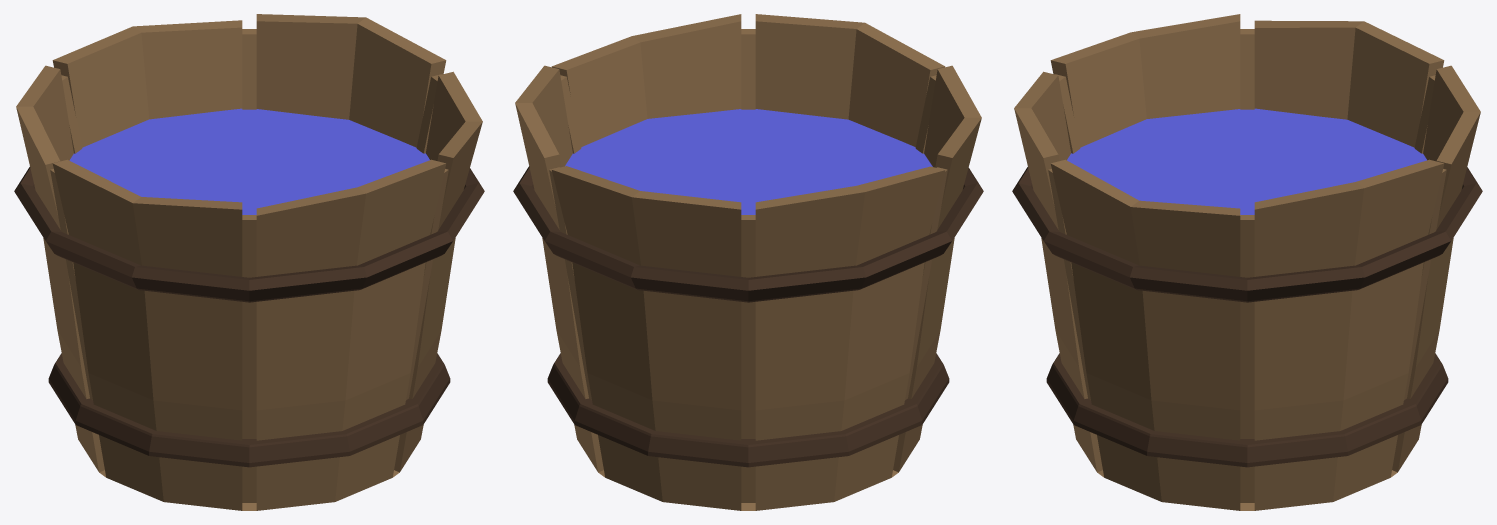
Rendered from Bucket_4_Water.fbx.
3 renders of one model, left to right at view 1: azimuth 30°, elevation 25°; view 2: azimuth 150°, elevation 25°; view 3: azimuth 270°, elevation 25°, orthographic.
Visible parts, largest first — view 1: Cylinder.037, Circle.011, Cylinder.039, Cylinder.038; view 2: Cylinder.037, Circle.011, Cylinder.039, Cylinder.038; view 3: Cylinder.037, Circle.011, Cylinder.039, Cylinder.038.
Part boxes in pixels (x1,y1,x2,y2): Cylinder.037: (16, 14, 482, 510); Circle.011: (69, 108, 429, 214); Cylinder.039: (14, 167, 484, 302); Cylinder.038: (48, 353, 450, 467); Cylinder.037: (515, 14, 981, 510); Circle.011: (565, 109, 932, 214); Cylinder.039: (513, 166, 983, 302); Cylinder.038: (547, 353, 949, 467); Cylinder.037: (1014, 14, 1480, 510); Circle.011: (1067, 108, 1426, 214); Cylinder.039: (1012, 167, 1482, 302); Cylinder.038: (1046, 353, 1448, 467).
Bounding box in the file's own units: 261 × 205 × 261.
